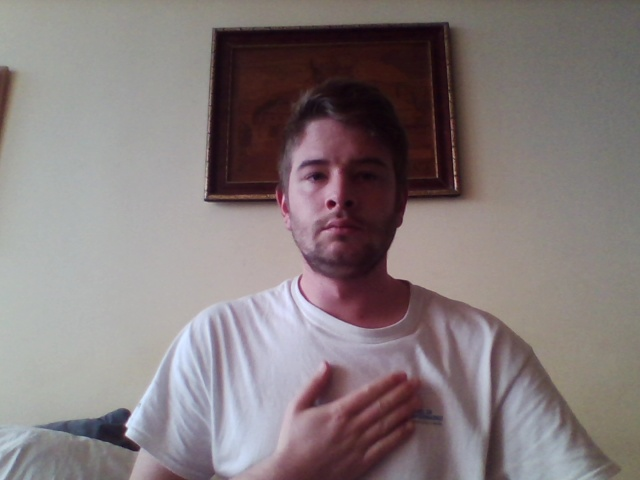molimte: (277, 357, 426, 480)
